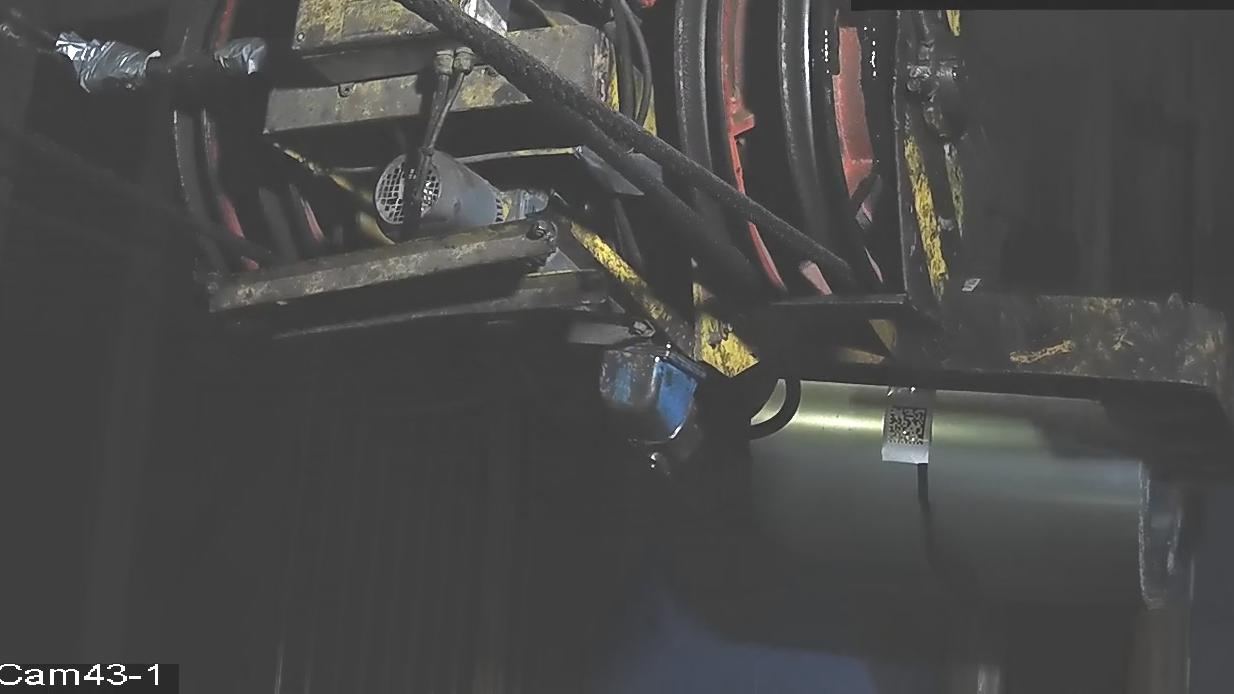data matrix: (884, 404, 930, 448)
